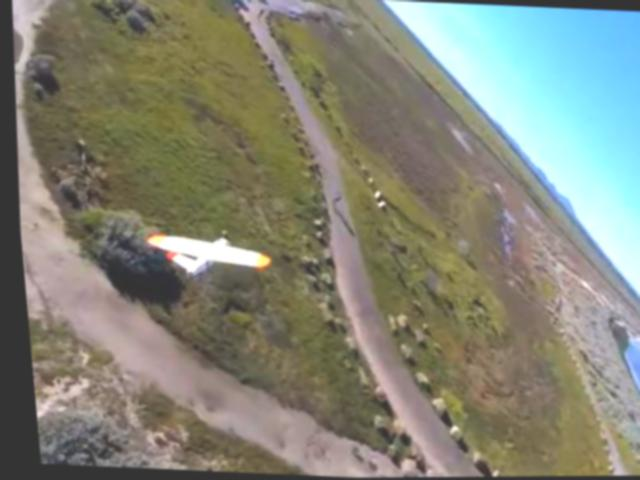uav: (140, 225, 270, 290)
